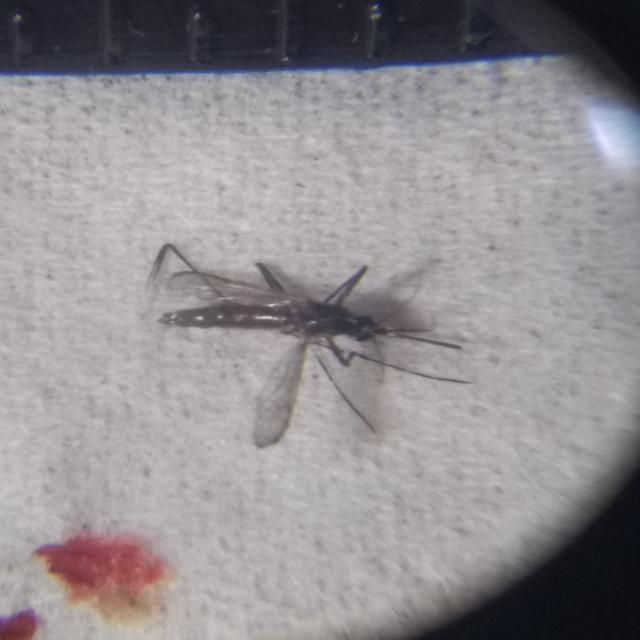albopictus: (137, 222, 477, 449)
